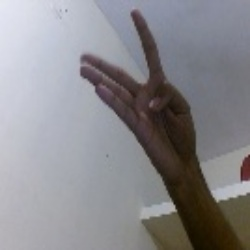hand: (61, 12, 206, 175)
